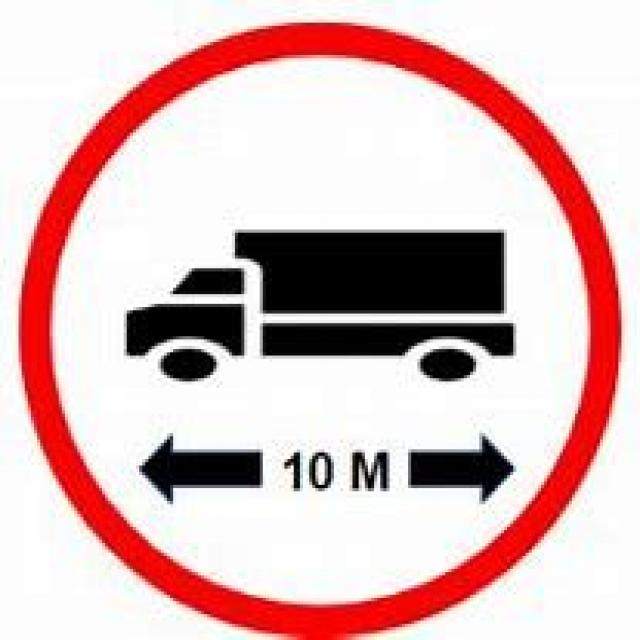LENGTH_LIMIT: (12, 19, 618, 637)
